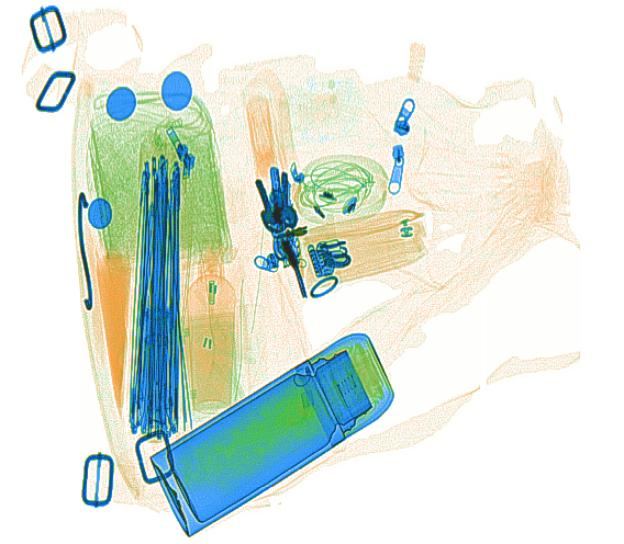plasticBottleWithaNozzle: (182, 222, 243, 415)
